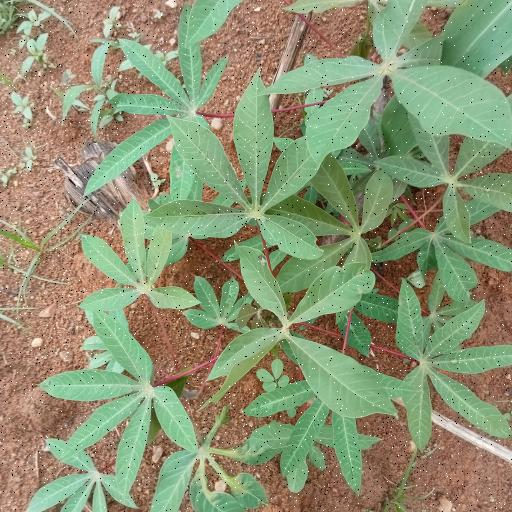Cassava_Mosaic: (214, 242, 396, 423), (91, 6, 229, 242), (163, 79, 323, 261), (56, 298, 199, 479), (399, 278, 512, 454)
